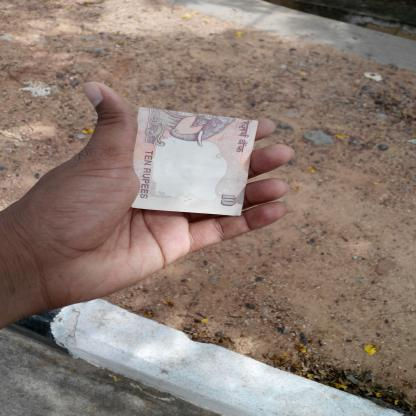Old10Back: (130, 107, 259, 216)
